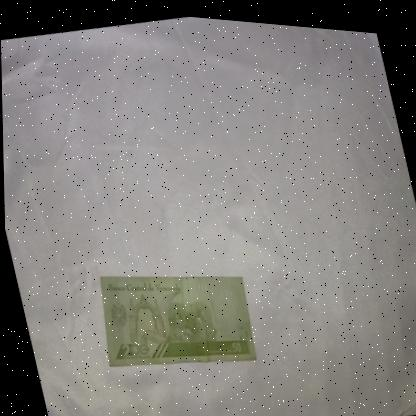fifty-back-vef: (85, 243, 260, 387)
